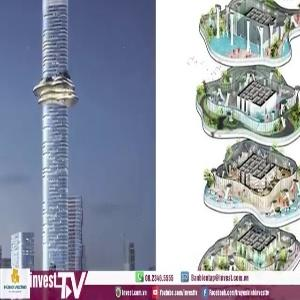drone: (193, 96, 254, 157)
